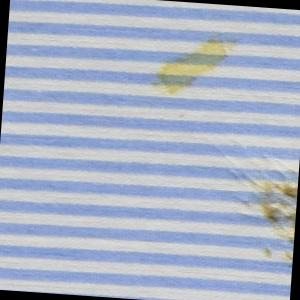Damage: (199, 133, 300, 242)
Oil Stain: (258, 178, 300, 265)
Stain: (150, 34, 243, 102)
